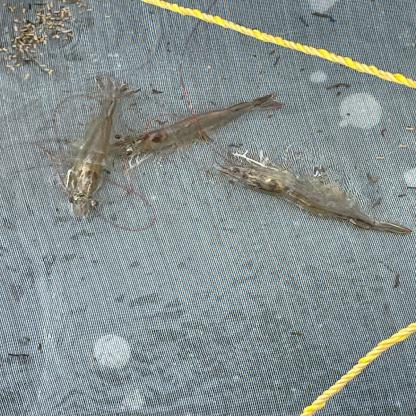shrimp: (214, 163, 416, 236), (112, 93, 288, 156), (67, 74, 142, 220)
